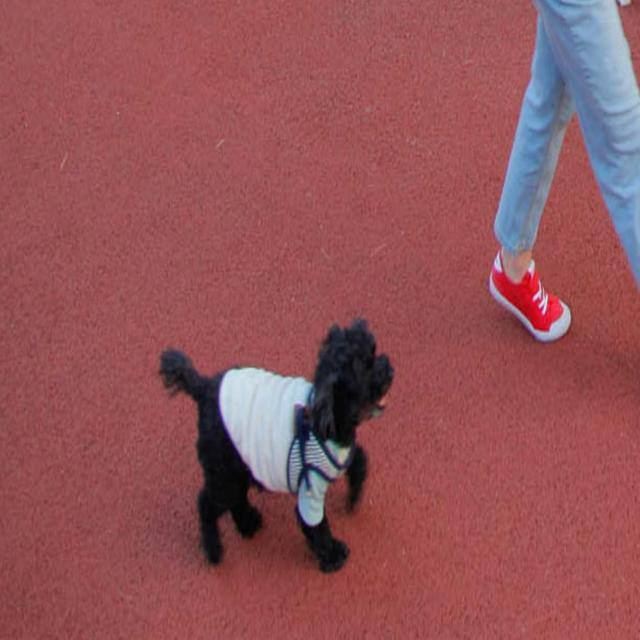Unleashed_Dog: (161, 78, 552, 571)
